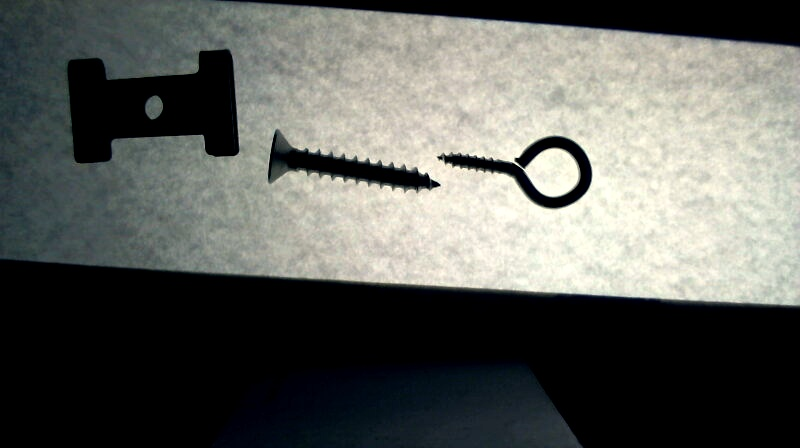O001: (437, 133, 592, 207)
O002: (67, 48, 241, 162)
S001: (267, 128, 442, 193)
